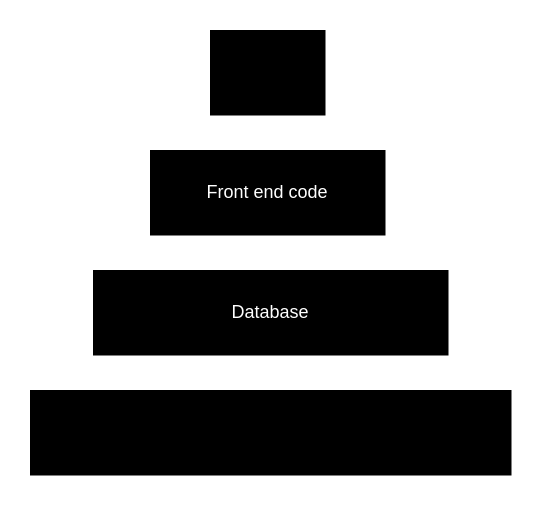
This 542x506 diagram has some shape labels left out. Each missing label, with the box of its shape:
Back end code: (25, 385, 515, 479)
UI Output: (205, 25, 329, 119)
